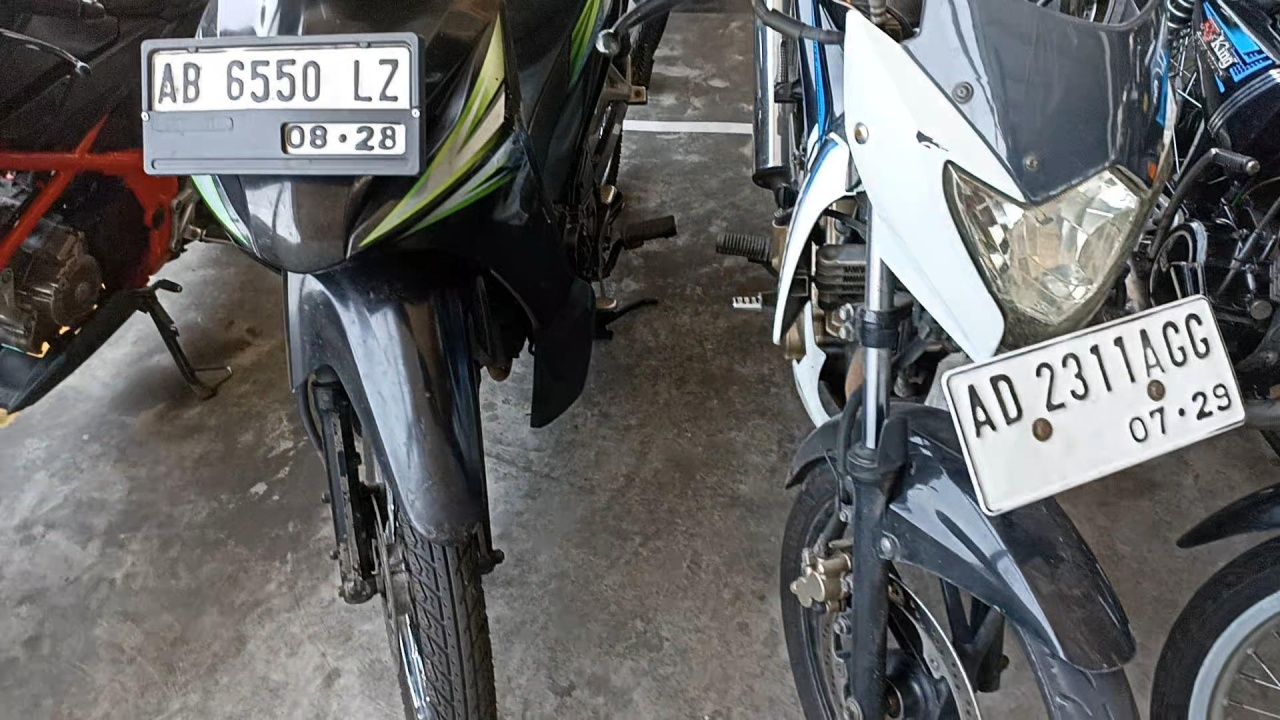plate: (939, 293, 1247, 518), (143, 37, 416, 172)
